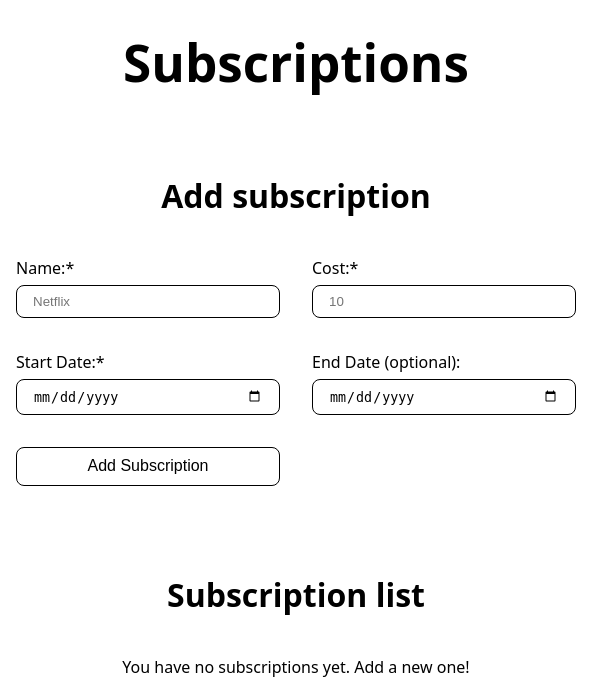
Test case: App component › должен вызывать createSubscription при сабмите формы, когда не в режиме Edit
Note: Заполняем поля формы
Type "New service" into the field with placeholder "Netflix" at point(148, 302), box [16,286,280,318]
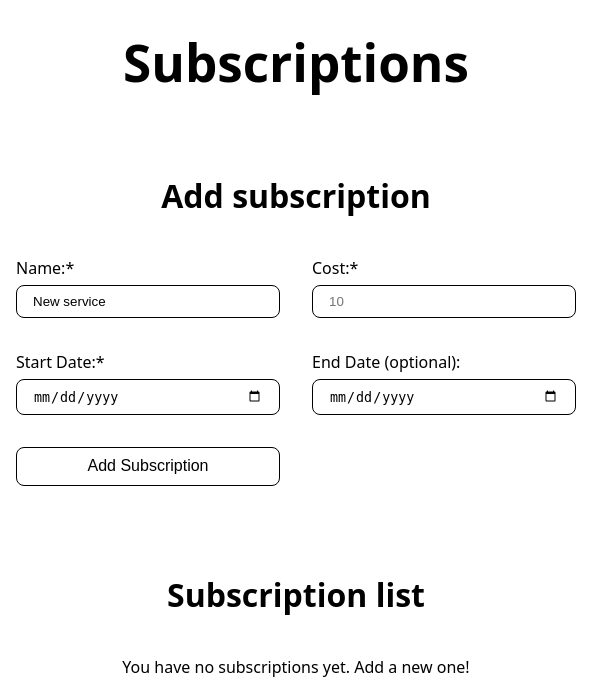
Type "15" into the number field with placeholder "10" at point(444, 302), box [312,286,576,318]
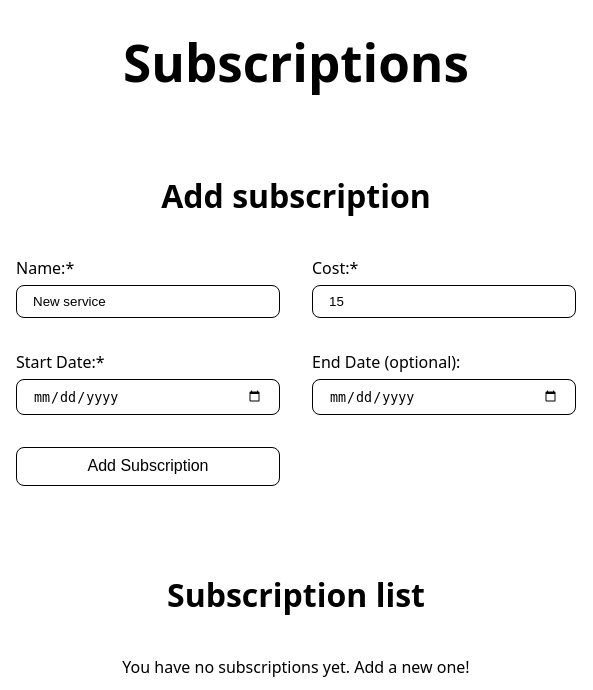
Type "2023-03-01" into the date field labelled "Start Date:*" at point(148, 397), box [16,380,280,415]
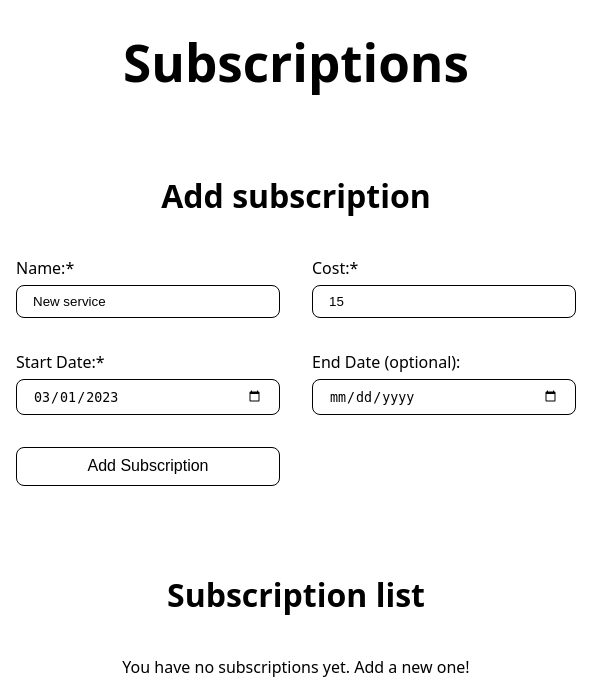
Note: Сабмитим
Click the button "Add Subscription" at point(148, 466), box [16,447,280,486]
(page scrolled)
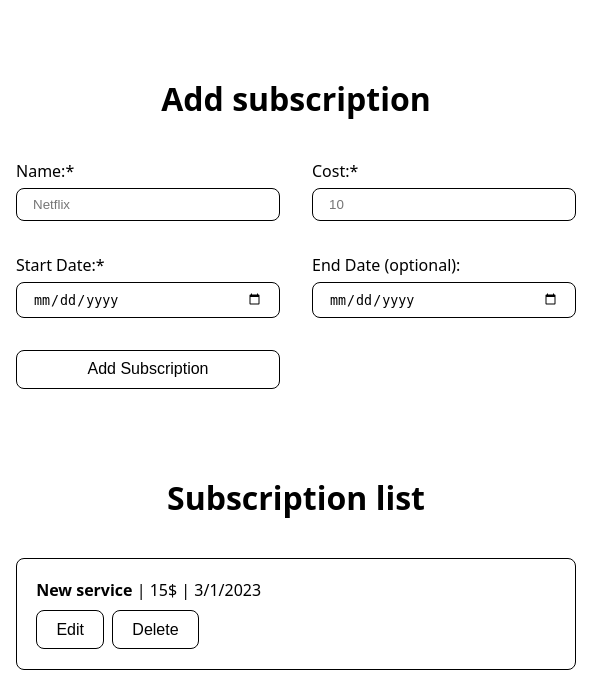
Expected: the text "New service" is shown, [36,579,132,601]
